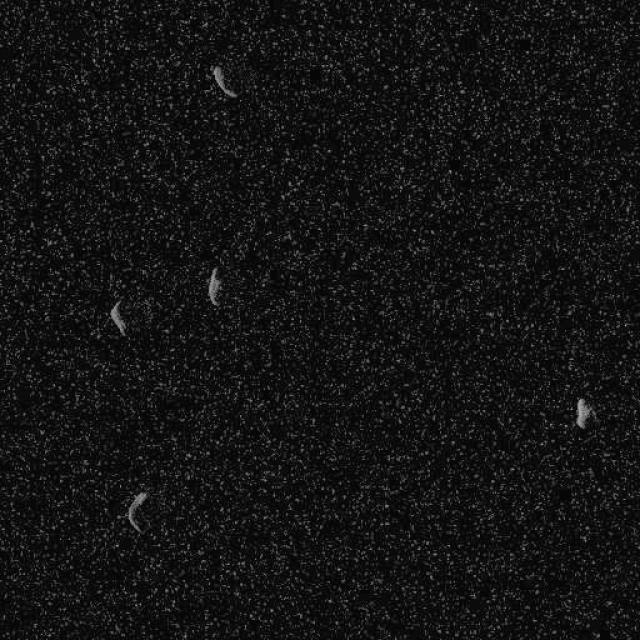D2: (125, 490, 149, 534), (210, 64, 238, 98), (108, 299, 128, 336), (206, 266, 222, 306), (574, 396, 592, 429)
